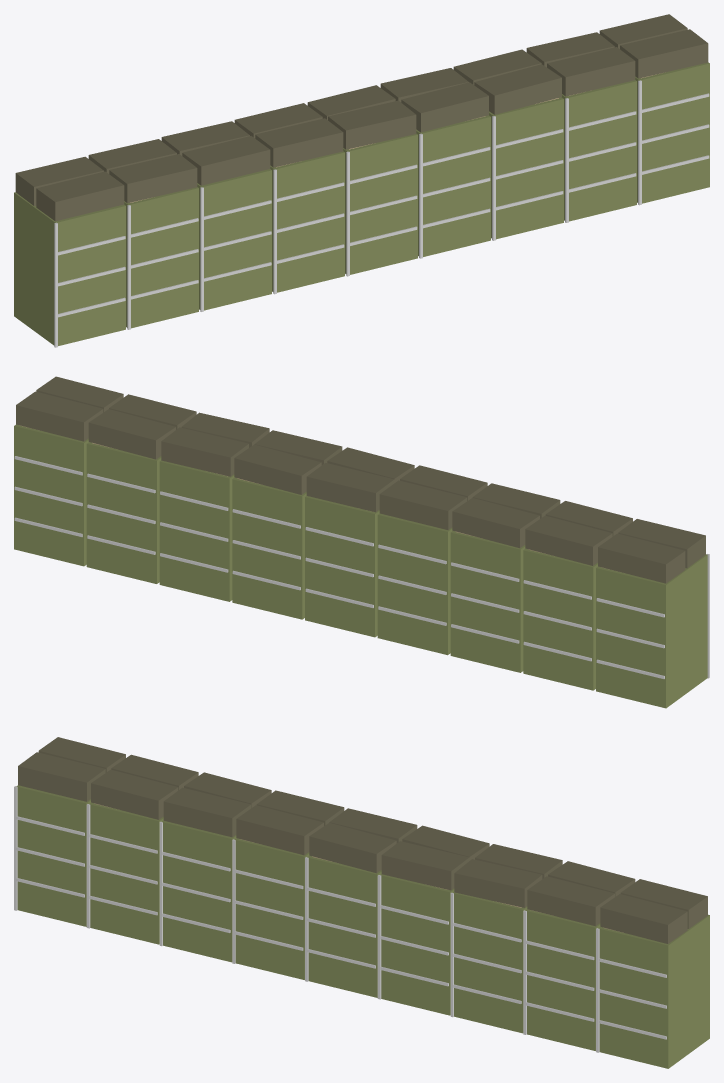
Rendered from SM_MuroHesco_v3_RemateSacos_e0_Sano_LOD0.fbx.
The picture shows the model from 3 angles, top to bottom: view 1: azimuth 30°, elevation 25°; view 2: azimuth 150°, elevation 25°; view 3: azimuth 330°, elevation 25°; orthographic projection.
Visible parts, largest first — view 1: SM_bloques.muro_hesco_estados_v12_LOD0; view 2: SM_bloques.muro_hesco_estados_v12_LOD0; view 3: SM_bloques.muro_hesco_estados_v12_LOD0.
Part boxes in pixels (box(x1,y1,x2,y2)): SM_bloques.muro_hesco_estados_v12_LOD0: box(14, 14, 709, 347); SM_bloques.muro_hesco_estados_v12_LOD0: box(14, 376, 709, 708); SM_bloques.muro_hesco_estados_v12_LOD0: box(14, 737, 709, 1068).
Size of the model in its own units: 9.98 by 2.09 by 1.14.
